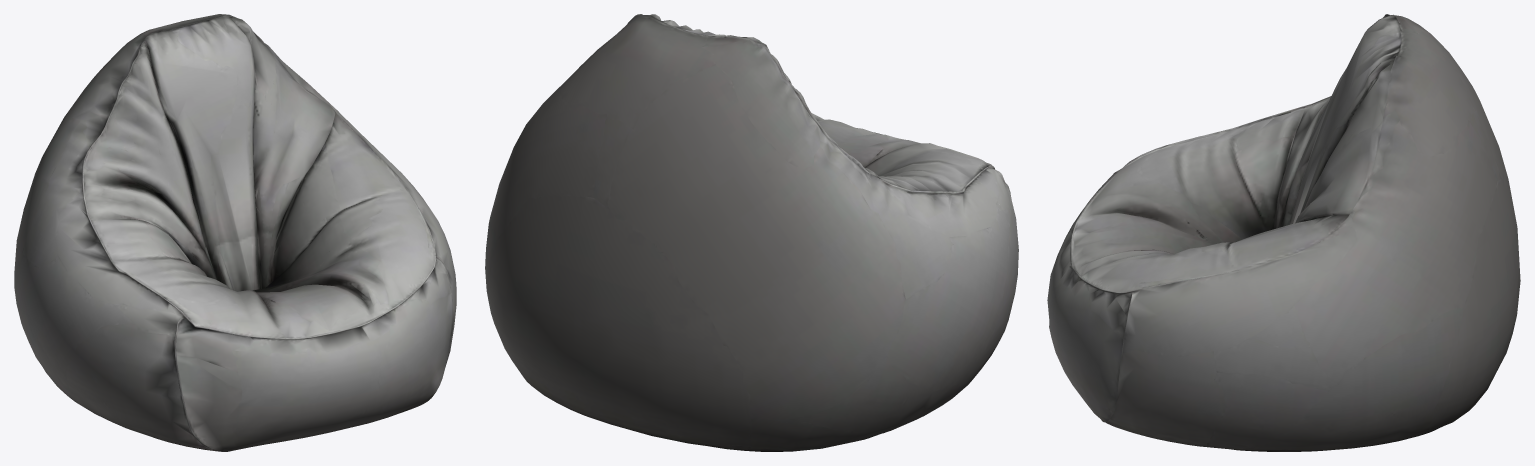
File: lounge-lite.glb
3 renders of one model, left to right at view 1: azimuth 30°, elevation 25°; view 2: azimuth 150°, elevation 25°; view 3: azimuth 270°, elevation 25°, orthographic. The views are drawn at different scales.
Visible parts, largest first — view 1: node_0; view 2: node_0; view 3: node_0.
Boxes of the visible parts, box(x1,y1,x2,y2) form: node_0: box(14, 14, 456, 451); node_0: box(485, 14, 1018, 451); node_0: box(1047, 14, 1520, 451).
Size of the model in its own units: 0.9702 by 0.7642 by 0.984.
Materials: 1 (1 with a texture image).
